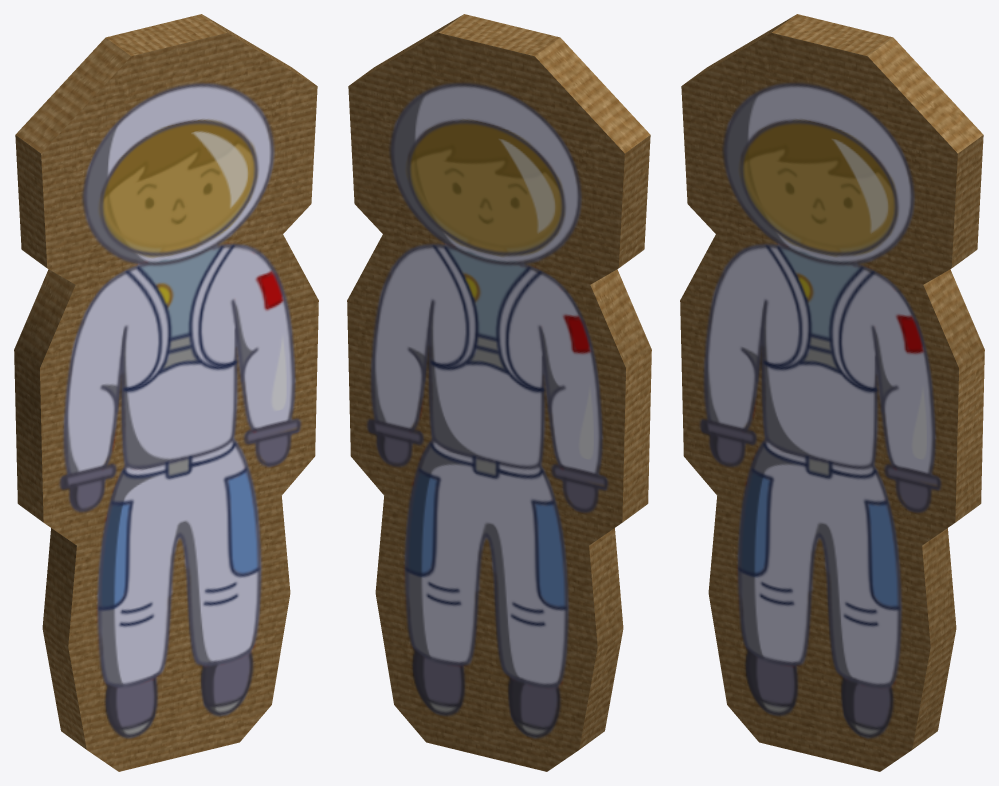
Rendered from Astronaut_01.fbx.
The picture shows the model from 3 angles, left to right: view 1: azimuth 30°, elevation 25°; view 2: azimuth 150°, elevation 25°; view 3: azimuth 330°, elevation 25°; orthographic projection.
Parts seen in each view (by area): view 1: Astronaut_01; view 2: Astronaut_01; view 3: Astronaut_01.
Part boxes in pixels (<box>): Astronaut_01: <box>14,14,318,771</box>; Astronaut_01: <box>347,14,651,771</box>; Astronaut_01: <box>680,14,984,771</box>.
Bounding box in the file's own units: 0.3479 × 0.8492 × 0.0556.
